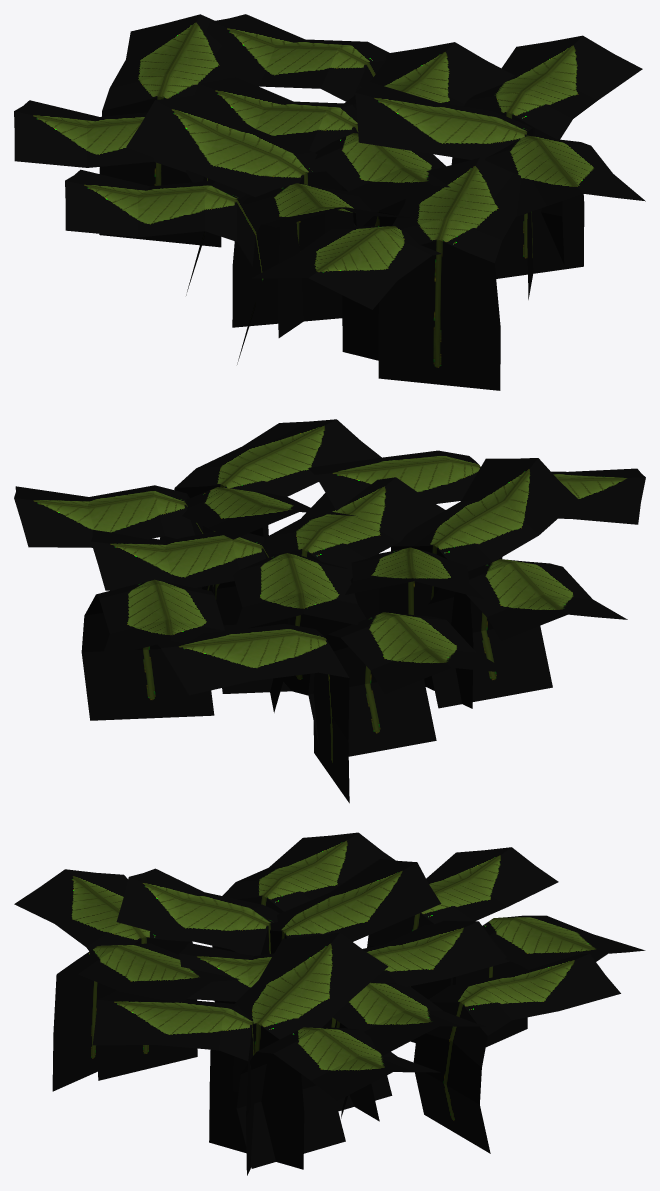
File: small grass patch.fbx
3 views of the same model, one above another, from view 1: azimuth 30°, elevation 25°; view 2: azimuth 150°, elevation 25°; view 3: azimuth 270°, elevation 25° (orthographic). The views are drawn at different scales.
Parts seen in each view (by area): view 1: little grass.001, little grass.005, little grass.012, little grass.003, little grass.010, little grass.011, little grass.006, little grass.002, little grass.004, little grass.009, little grass.013, little grass.007 (+2 smaller); view 2: little grass.009, little grass.013, little grass.012, little grass.002, little grass.010, little grass, little grass.011, little grass.007, little grass.003, little grass.008, little grass.005, little grass.001 (+2 smaller); view 3: little grass.004, little grass.009, little grass.011, little grass.001, little grass.006, little grass.003, little grass.002, little grass.013, little grass.005, little grass.012, little grass.007, little grass.010 (+2 smaller).
Boxes of the visible parts, x1,y1,x2,y2 form: little grass.001: [378, 157, 520, 390]; little grass.005: [126, 94, 342, 337]; little grass.012: [65, 169, 267, 364]; little grass.003: [485, 135, 645, 278]; little grass.010: [99, 14, 244, 247]; little grass.011: [451, 35, 642, 264]; little grass.006: [252, 226, 441, 360]; little grass.002: [232, 183, 410, 327]; little grass.004: [355, 81, 533, 299]; little grass.009: [206, 14, 389, 101]; little grass.013: [14, 100, 212, 295]; little grass.007: [194, 76, 378, 226]; little grass.009: [81, 579, 224, 720]; little grass.013: [308, 612, 510, 756]; little grass.012: [427, 559, 627, 708]; little grass.002: [391, 458, 578, 708]; little grass.010: [157, 624, 349, 803]; little grass: [248, 477, 445, 695]; little grass.011: [14, 485, 214, 594]; little grass.007: [216, 553, 366, 693]; little grass.003: [174, 419, 381, 599]; little grass.008: [91, 530, 289, 712]; little grass.005: [345, 547, 482, 681]; little grass.001: [308, 450, 502, 559]; little grass.004: [209, 932, 388, 1169]; little grass.009: [413, 953, 620, 1153]; little grass.011: [236, 1027, 440, 1168]; little grass.001: [52, 943, 239, 1091]; little grass.006: [14, 869, 197, 1080]; little grass.003: [92, 990, 254, 1175]; little grass.002: [116, 868, 279, 955]; little grass.013: [367, 847, 558, 1042]; little grass.005: [270, 859, 441, 953]; little grass.012: [212, 832, 395, 1003]; little grass.007: [335, 920, 510, 1121]; little grass.010: [450, 915, 645, 1047].
Size of the model in its own units: 247 by 71.38 by 248.
Materials: 1 (1 with a texture image).
